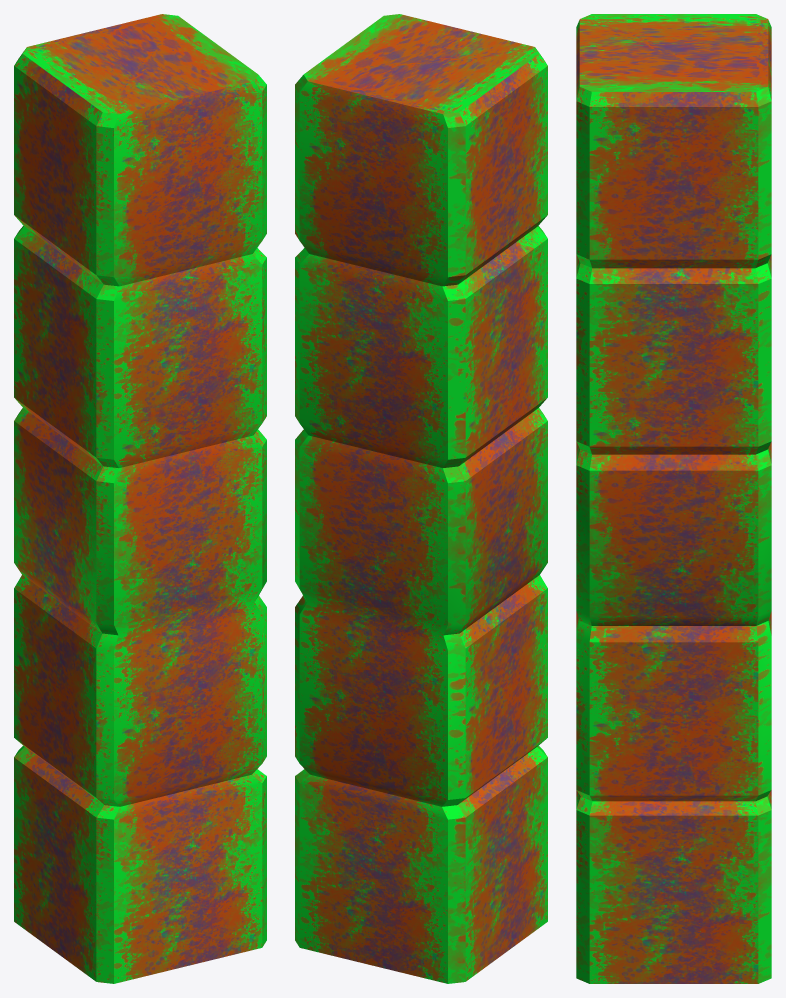
Rendered from Ruins Pillar.fbx.
The picture shows the model from 3 angles, left to right: view 1: azimuth 30°, elevation 25°; view 2: azimuth 150°, elevation 25°; view 3: azimuth 270°, elevation 25°; orthographic projection. The views are drawn at different scales.
Parts seen in each view (by area): view 1: Pillar Tall; view 2: Pillar Tall; view 3: Pillar Tall.
Part boxes in pixels (box(x1,y1,x2,y2)): Pillar Tall: box(14, 14, 266, 983); Pillar Tall: box(295, 14, 547, 983); Pillar Tall: box(576, 14, 771, 983).
Size of the model in its own units: 266 by 1293 by 258.
